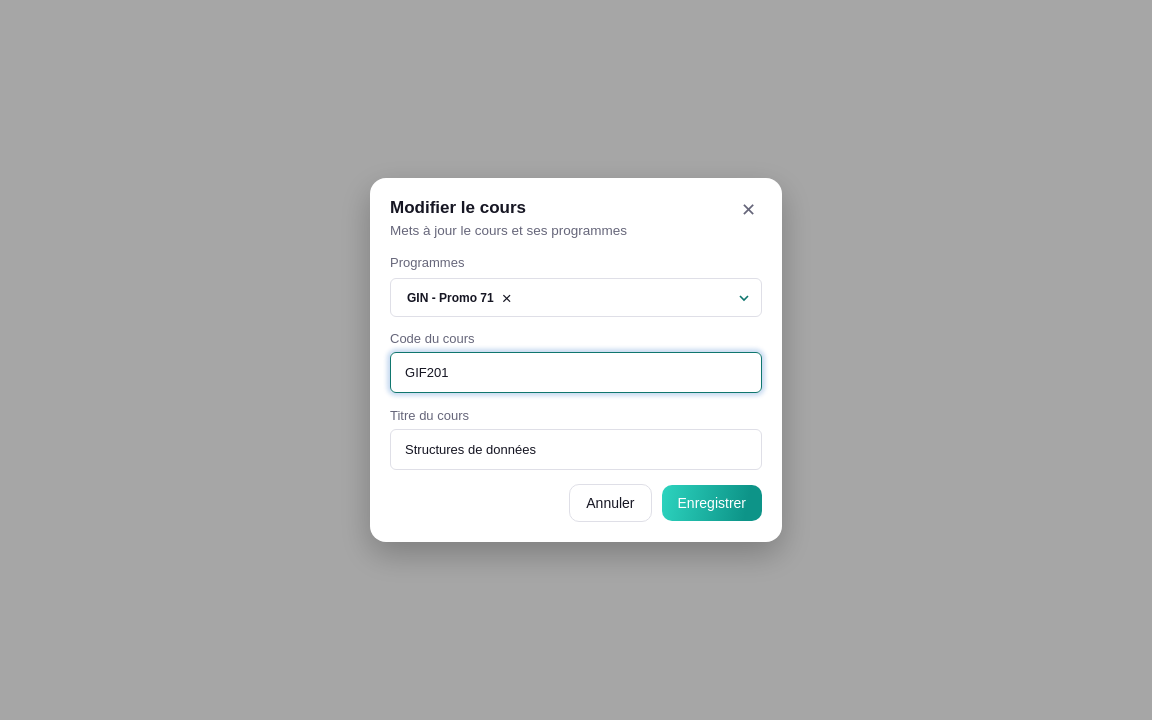
UpdateCoursePopup › retirer un chip détache le programme
Click the button named "Retirer Génie informatique": [507, 299] box [498, 290, 516, 308]
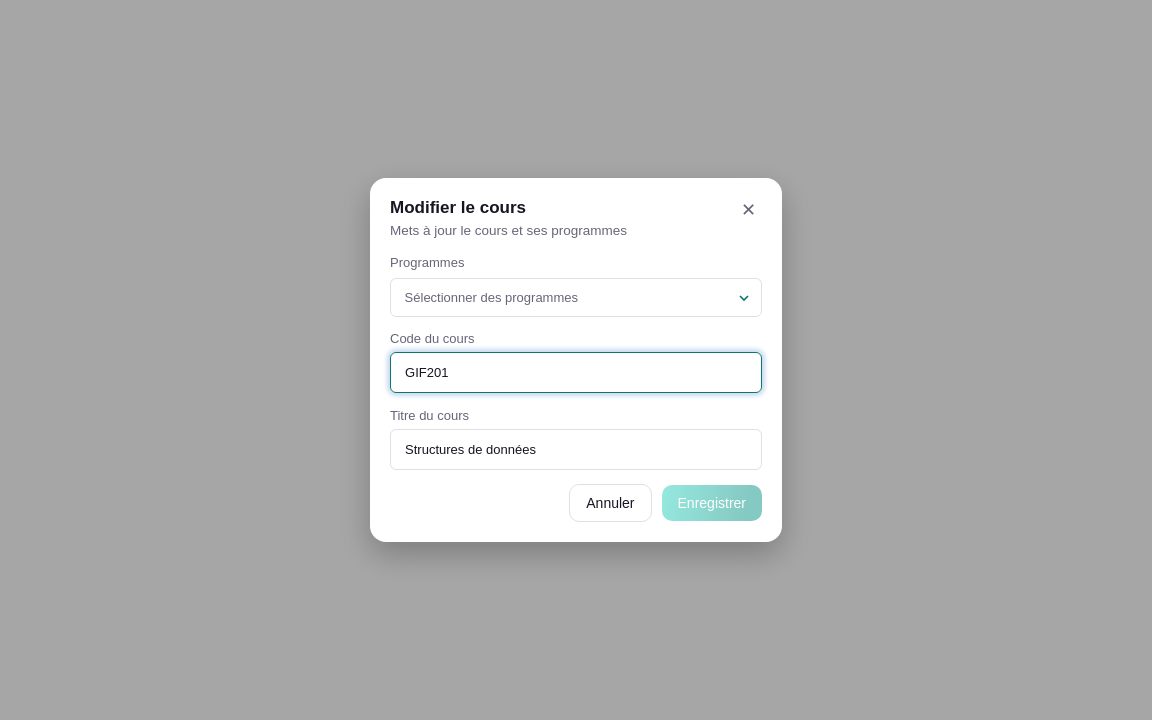
Result: the text "GIN - Promo 71" is gone
Result: the text "Sélectionner des programmes" is shown at [405, 290, 578, 305]
Result: the button "Enregistrer" is disabled at [662, 485, 762, 521]
